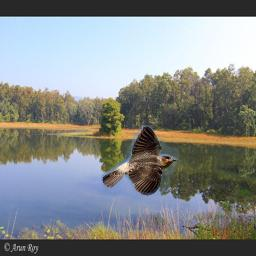Swallow: (101, 125, 179, 196)
